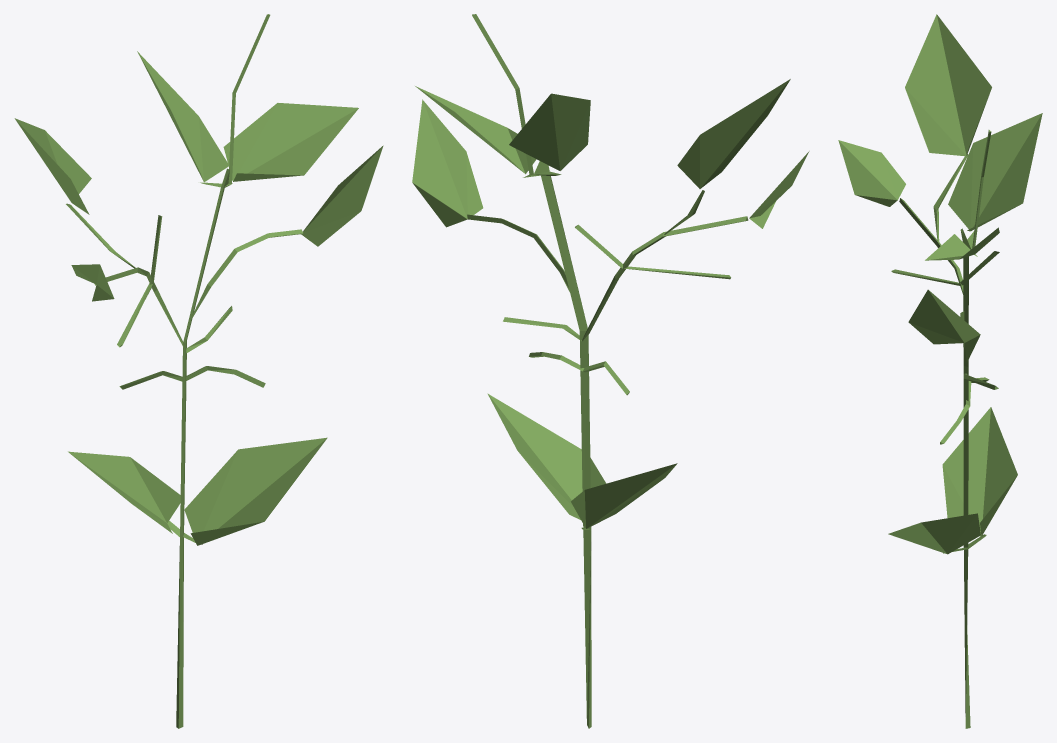
Rendered from Peppers_7.fbx.
The picture shows the model from 3 angles, left to right: view 1: azimuth 30°, elevation 25°; view 2: azimuth 150°, elevation 25°; view 3: azimuth 270°, elevation 25°; orthographic projection. The views are drawn at different scales.
Parts seen in each view (by area): view 1: Peppers_7; view 2: Peppers_7; view 3: Peppers_7.
Boxes of the visible parts, x1,y1,x2,y2 form: Peppers_7: [14, 14, 383, 728]; Peppers_7: [412, 14, 809, 728]; Peppers_7: [838, 14, 1042, 728].
Bounding box in the file's own units: 53.22 × 94.92 × 27.27.
